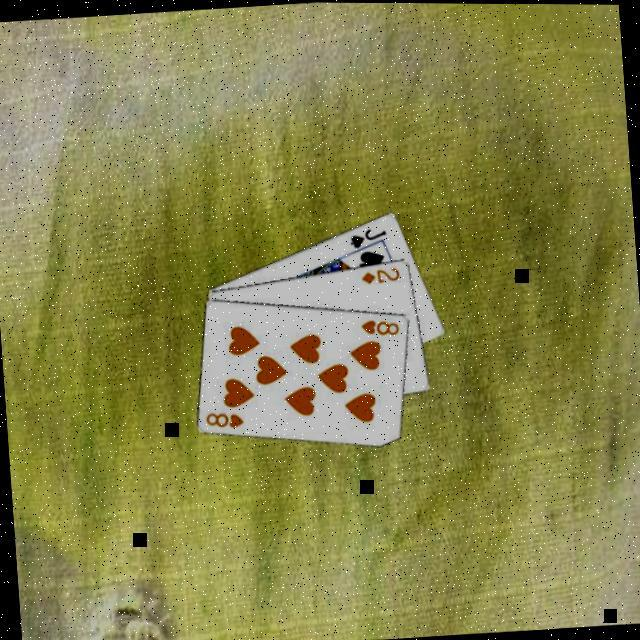2D: (360, 264, 404, 287)
8H: (204, 408, 248, 434), (359, 315, 404, 340)
JS: (348, 224, 392, 252)
